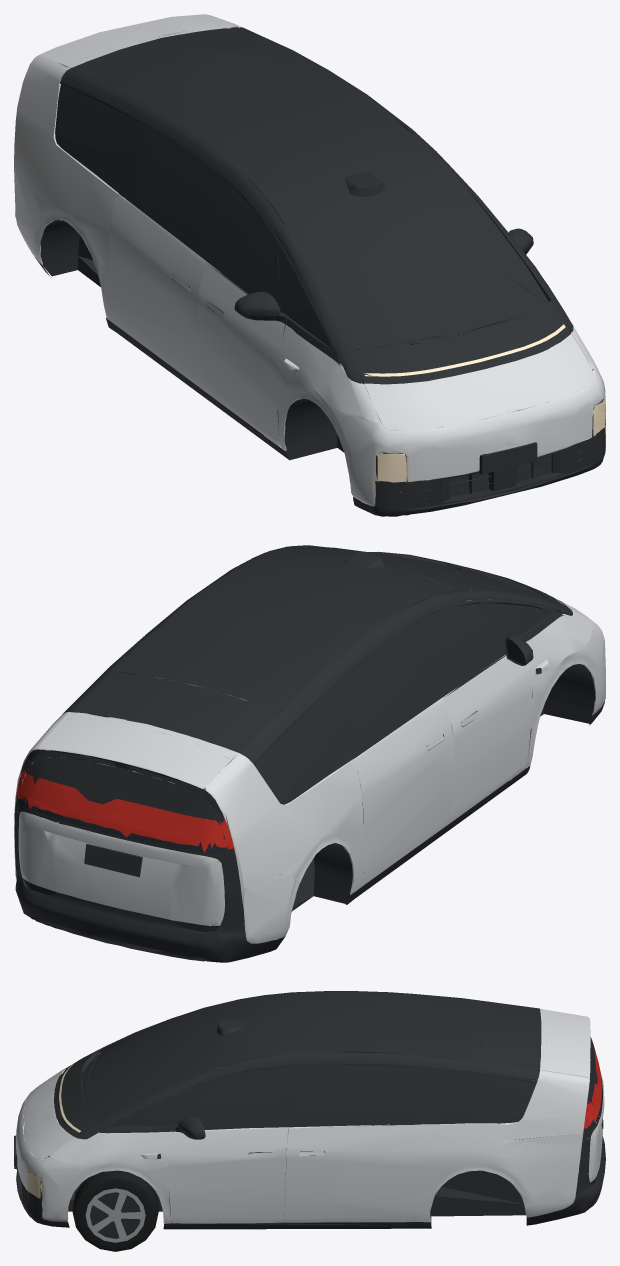
File: ev-mpv.glb
3 renders of one model, top to bottom at view 1: azimuth 30°, elevation 25°; view 2: azimuth 150°, elevation 25°; view 3: azimuth 270°, elevation 25°, orthographic. The views are drawn at different scales.
Visible parts, largest first — view 1: Car trim, Car body, Car headlamps; view 2: Car trim, Car body, Car tail lamps, Car glazing; view 3: Car trim, Car body, Wheel tyre, Wheel rim, Wheel well, Car tail lamps, Car headlamps.
Boxes of the visible parts, x1=… form: Car trim: x1=15, y1=27, x2=605, y2=516; Car body: x1=14, y1=14, x2=605, y2=506; Car headlamps: x1=364, y1=324, x2=605, y2=492; Car trim: x1=14, y1=545, x2=604, y2=962; Car body: x1=14, y1=578, x2=605, y2=943; Car tail lamps: x1=16, y1=768, x2=233, y2=852; Car glazing: x1=19, y1=797, x2=224, y2=853; Car trim: x1=14, y1=991, x2=605, y2=1229; Car body: x1=16, y1=1009, x2=604, y2=1223; Wheel tyre: x1=72, y1=1170, x2=158, y2=1251; Wheel rim: x1=85, y1=1188, x2=145, y2=1242; Wheel well: x1=89, y1=1188, x2=140, y2=1238; Car tail lamps: x1=584, y1=1048, x2=602, y2=1128; Car headlamps: x1=28, y1=1060, x2=80, y2=1198.
Bounding box in the file's own units: 2.27 × 1.91 × 5.35.
